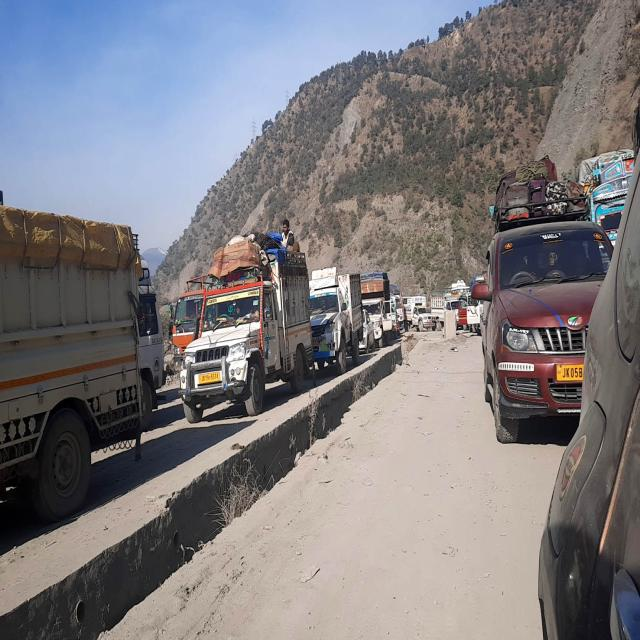plate: (196, 369, 221, 386)
